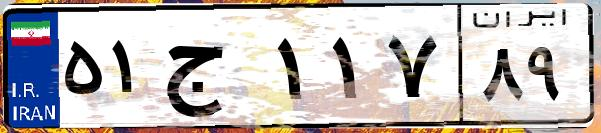1: (270, 28, 330, 110), (330, 28, 385, 110), (110, 28, 158, 98)
5: (57, 26, 110, 100)
7: (385, 28, 445, 110)
8: (475, 38, 525, 113)
9: (525, 38, 570, 115)
ج: (158, 20, 270, 120)
